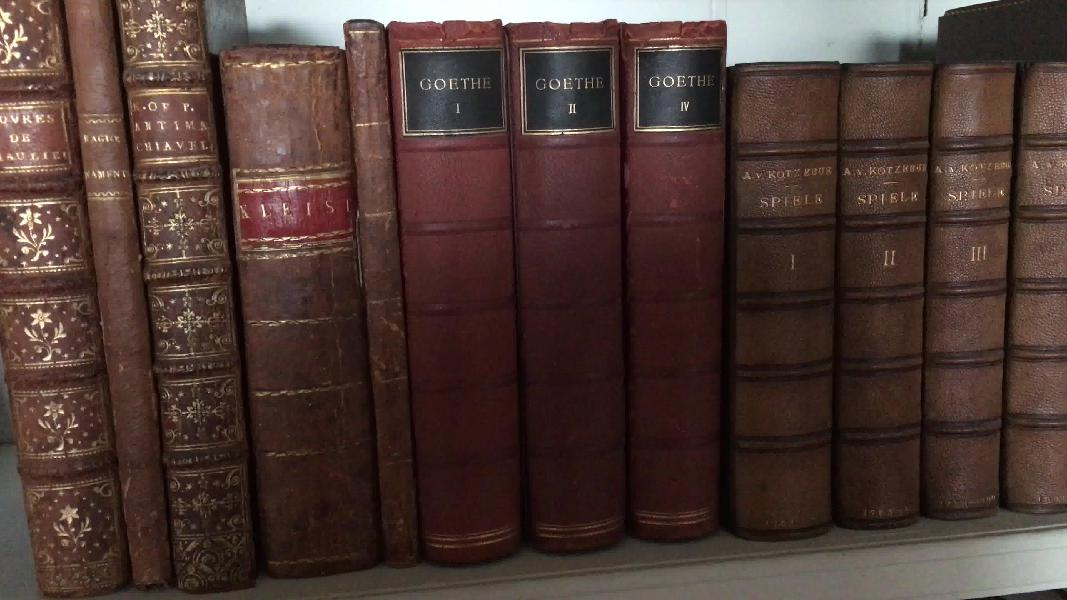Aa6-10: (334, 20, 428, 570)
Aa6-11_13: (380, 19, 730, 571)
Aa6-14_17: (726, 62, 1067, 559)
Aa6-6: (3, 8, 132, 591)
Aa6-7: (60, 7, 195, 594)
Aa6-8: (112, 3, 265, 589)
Aa6-9: (207, 45, 383, 572)
